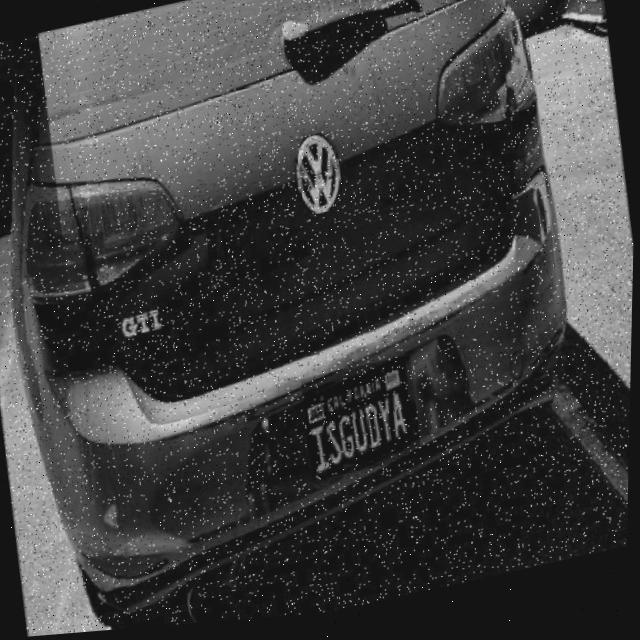LicensePlate: (301, 361, 427, 487)
